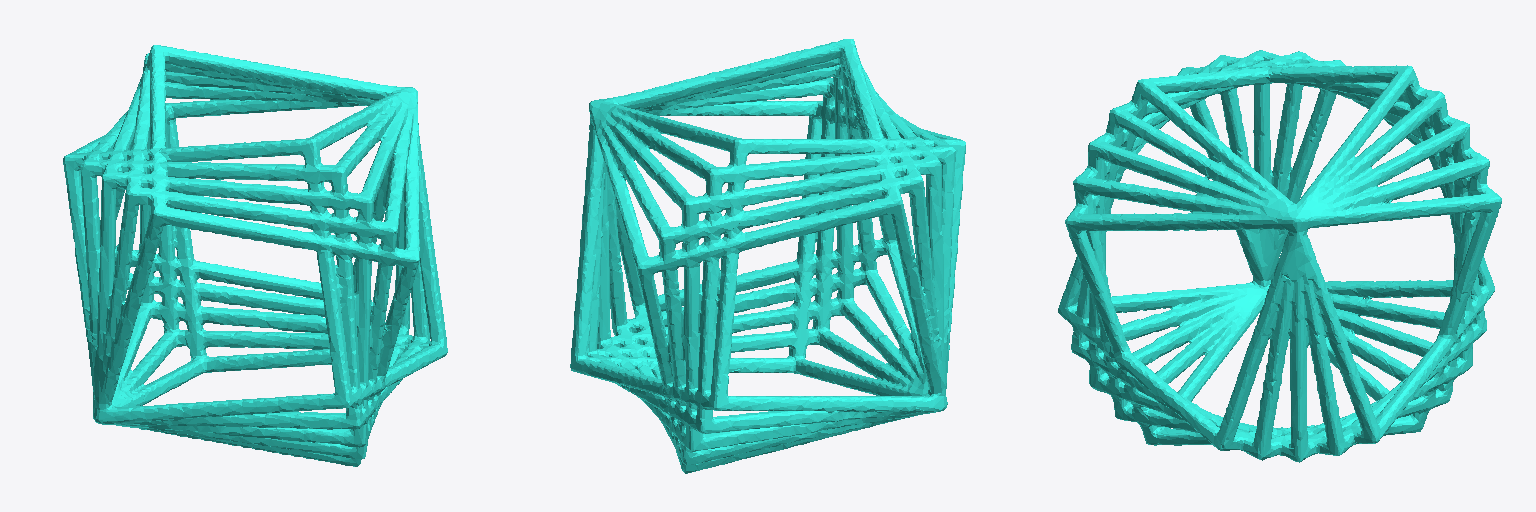
Rendered from polyfold.obj.
3 views of the same model, side by side, from view 1: azimuth 30°, elevation 25°; view 2: azimuth 150°, elevation 25°; view 3: azimuth 270°, elevation 25° (orthographic).
Visible parts, largest first — view 1: polyfoldOFFICIAL; view 2: polyfoldOFFICIAL; view 3: polyfoldOFFICIAL.
Part boxes in pixels (x1,y1,x2,y2): polyfoldOFFICIAL: (63, 45, 447, 466); polyfoldOFFICIAL: (570, 39, 965, 473); polyfoldOFFICIAL: (1058, 50, 1501, 462).
Bounding box in the file's own units: 5.39 × 5.23 × 6.11.